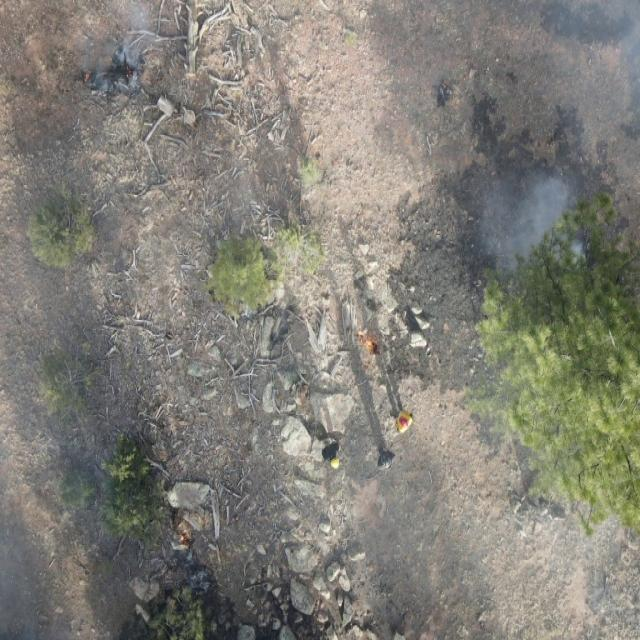fire: (358, 328, 386, 373), (171, 527, 193, 552), (78, 64, 94, 90), (121, 62, 137, 84)
smoke: (472, 173, 589, 277), (553, 0, 640, 128), (73, 3, 165, 98), (0, 507, 58, 640)
